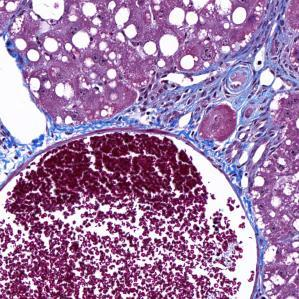fibrosis: (139, 57, 293, 146)
